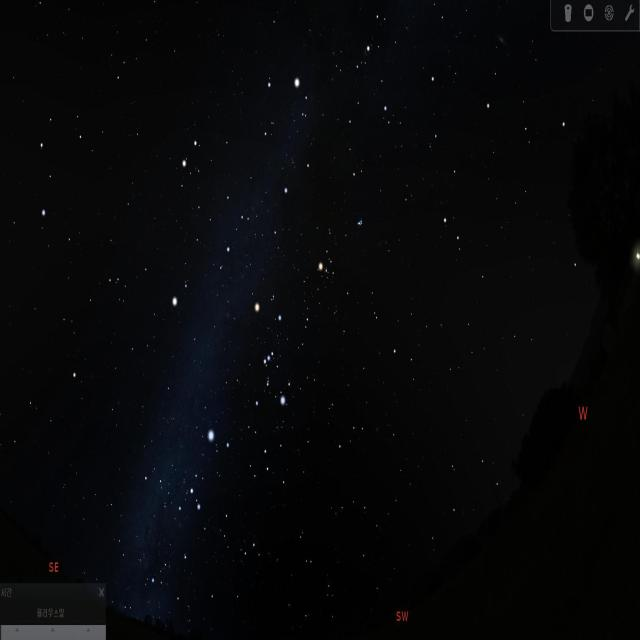canis_major: (186, 425, 232, 514)
canis_minor: (171, 278, 190, 315)
gemini: (181, 135, 249, 262)
orion: (249, 298, 289, 415)
pleiades: (356, 215, 366, 232)
taurus: (310, 201, 375, 303)
